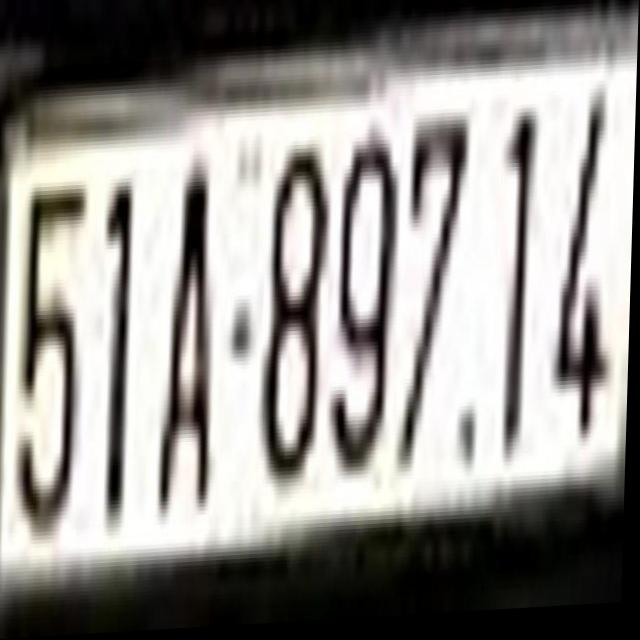1: (485, 107, 538, 454), (101, 175, 140, 515)
4: (555, 84, 617, 447)
5: (18, 178, 86, 554)
7: (402, 117, 475, 477)
8: (264, 143, 330, 480)
9: (332, 133, 393, 480)
A: (151, 164, 224, 520)
